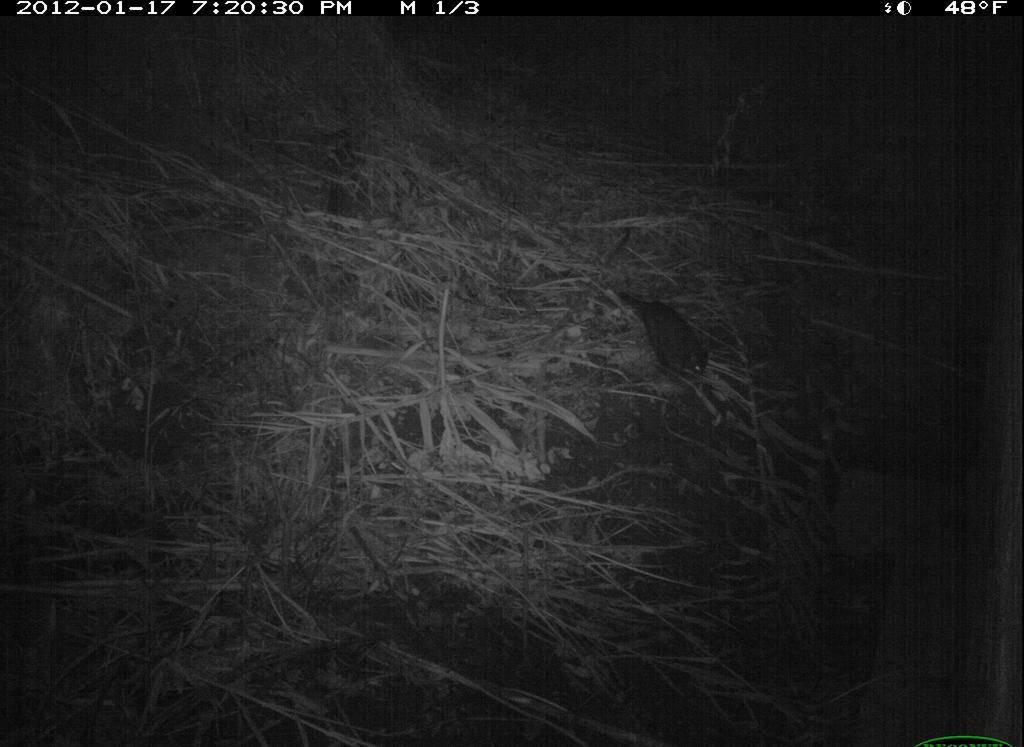cat: (602, 265, 720, 391)
